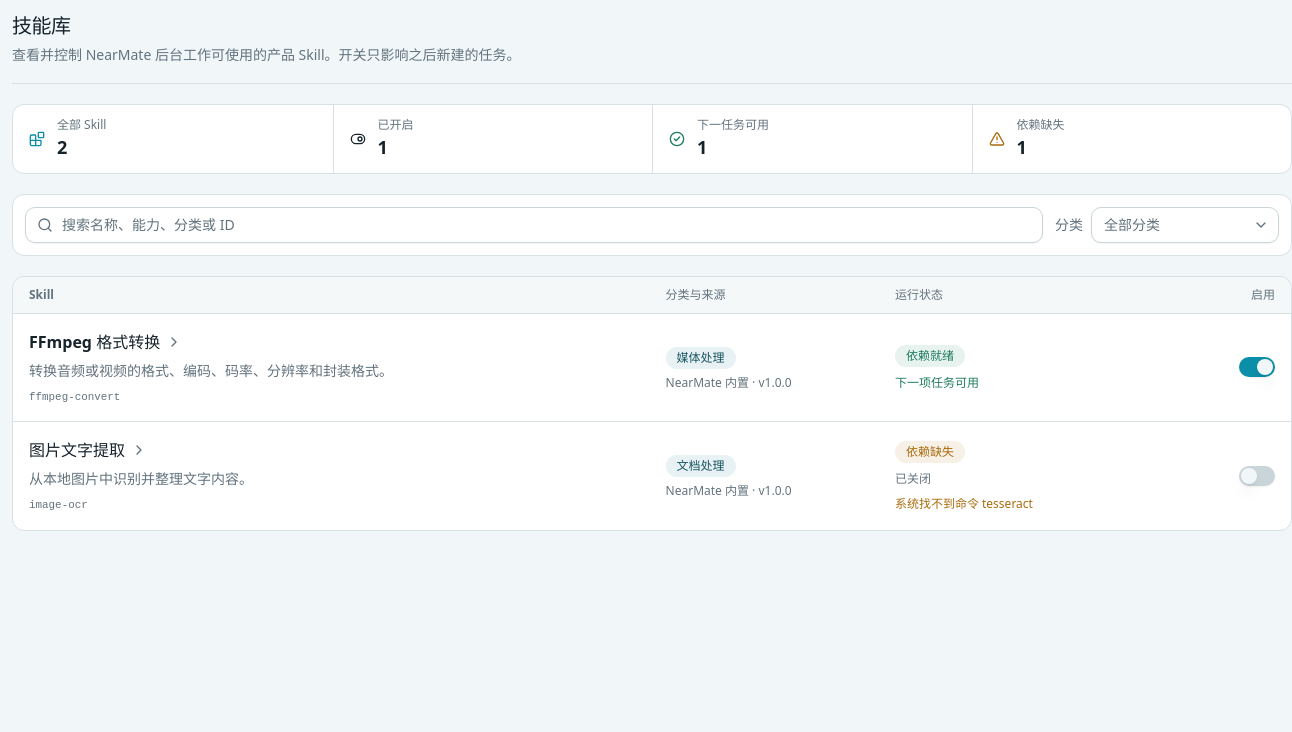
Test: skill library page › 设置快照刷新失败时把已保存提醒展示为状态提示，而不是保存失败
What coordinates should you click on to do the following:
click the switch named "关闭 FFmpeg 格式转换"
I would click on:
 (1257, 367)
Its box is [1239,357,1275,377].
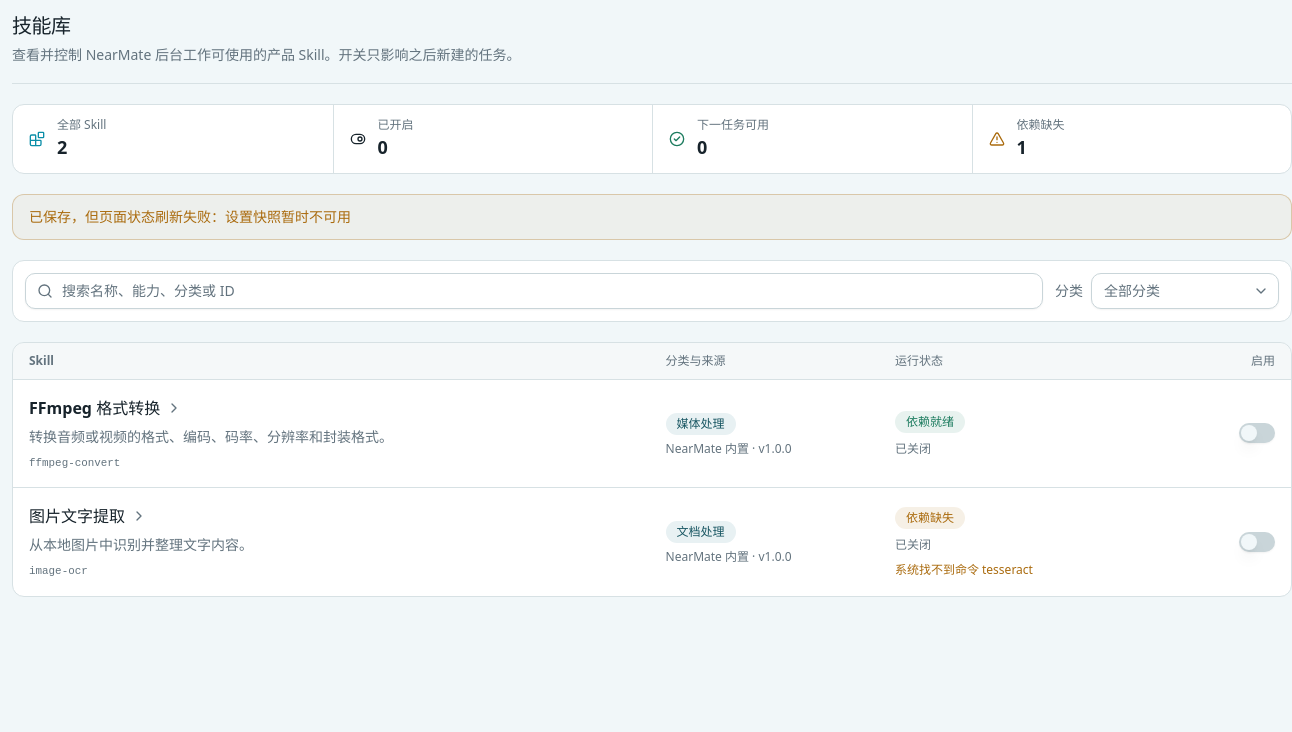
Now the message reads "已保存，但页面状态刷新失败：设置快照暂时不可用", box [29,207,351,226]
